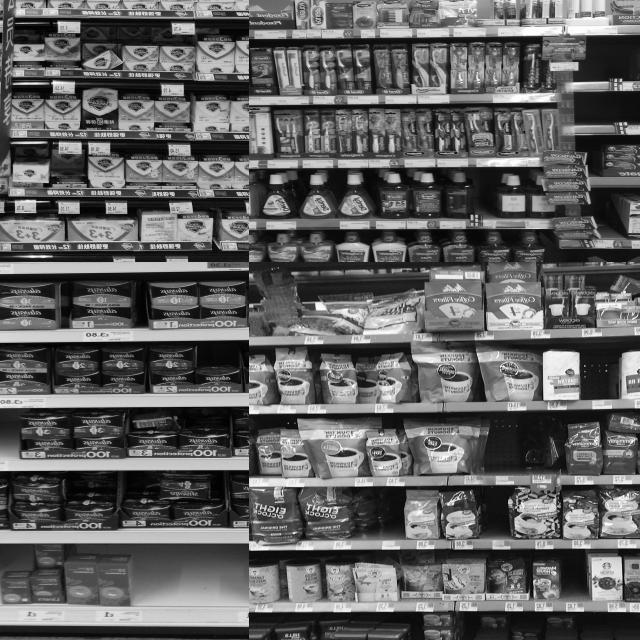100% O.O.S: (577, 94, 640, 134), (590, 40, 628, 90), (474, 170, 490, 228), (599, 197, 617, 248)
100- O.O.S: (140, 550, 249, 624), (582, 354, 616, 409), (492, 418, 519, 484), (485, 488, 509, 550), (562, 552, 584, 612), (382, 488, 402, 550), (0, 411, 14, 470)
